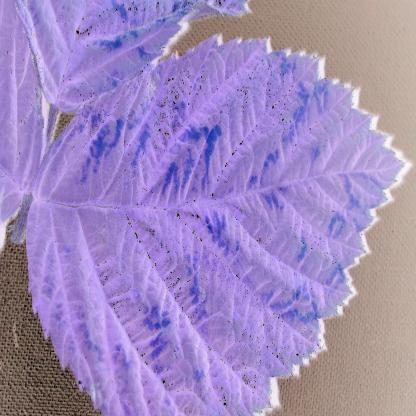raspberry leaf: (27, 34, 397, 416)
